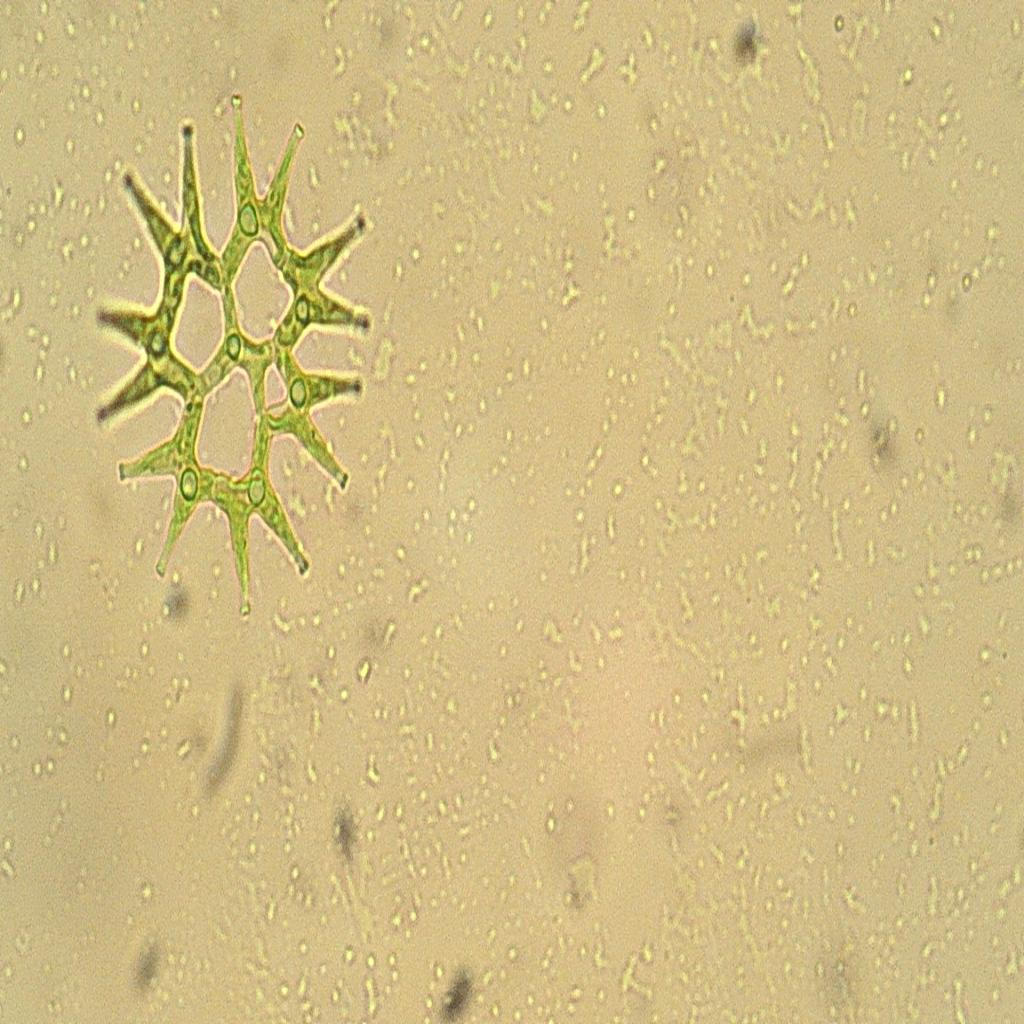Pediastrum_CTH: (84, 84, 383, 626)
